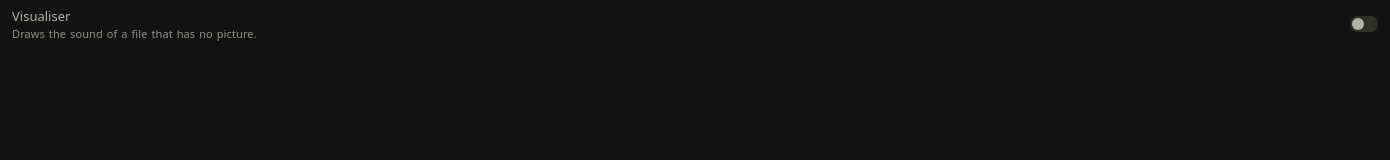
Scenario: SwitchRow › is worked by a click on its name
The width and height of the screenshot is (1390, 160).
Click the text "Visualiser": (41, 16) [12,7,70,25]
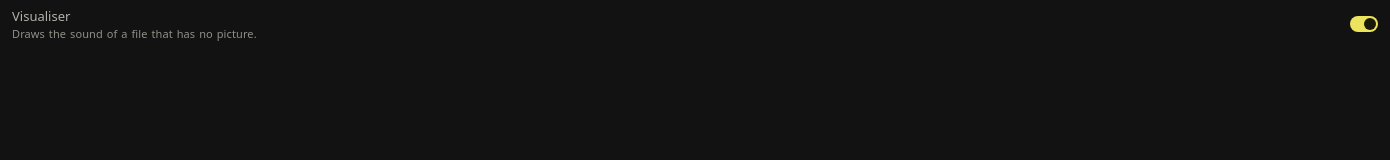
Now the switch is checked, box [1350,16,1378,32]
Click the text "Visualiser": (41, 16) [12,7,70,25]
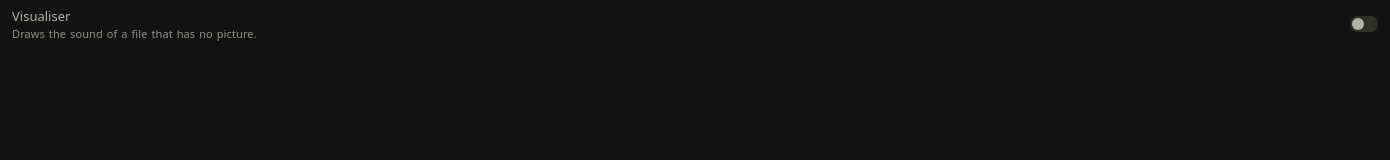
Now the switch is not checked, box [1350,16,1378,32]
